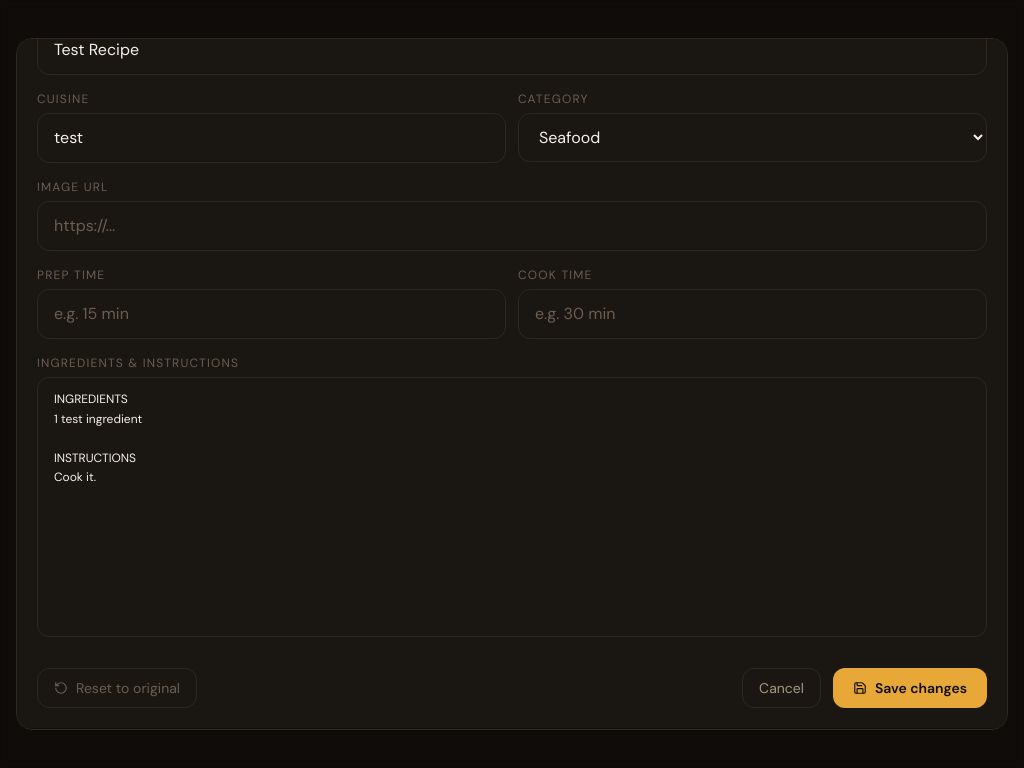
it: RecipeEditModal async completion and retry › reports save readback failure and retries only the read without replaying private data
(page scrolled)
Replace the text in the text box with "Saved personal content" at [512, 507], box [37,377,987,637]
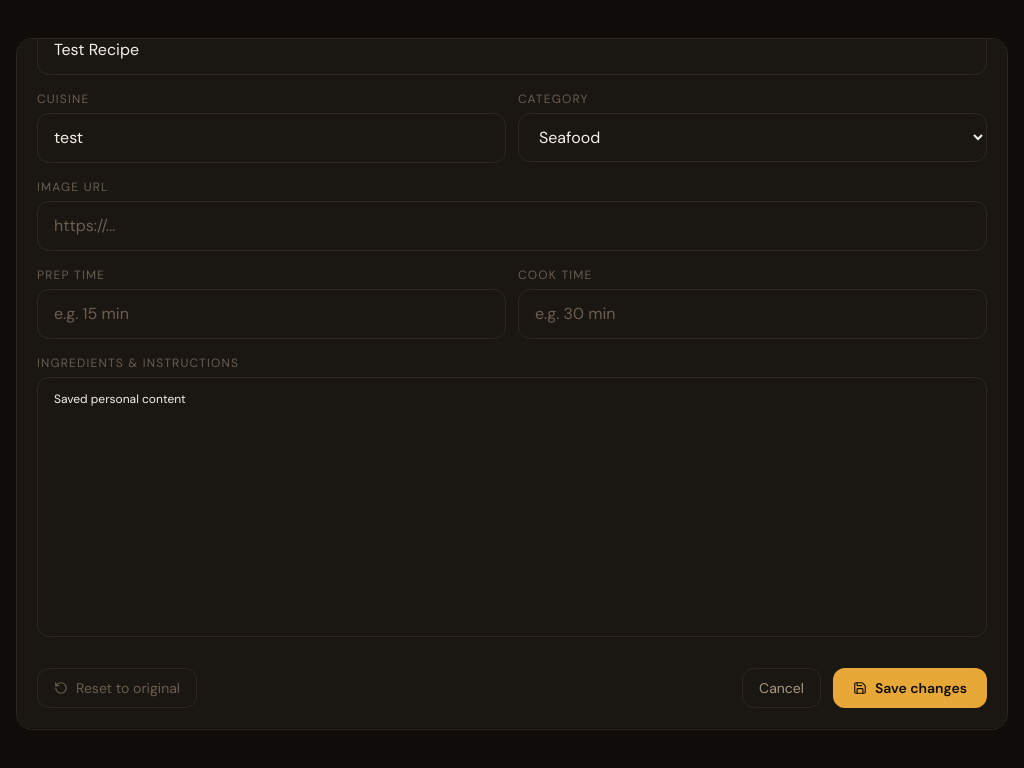
Click the button "Save changes" at [910, 688], box [833,668,987,708]
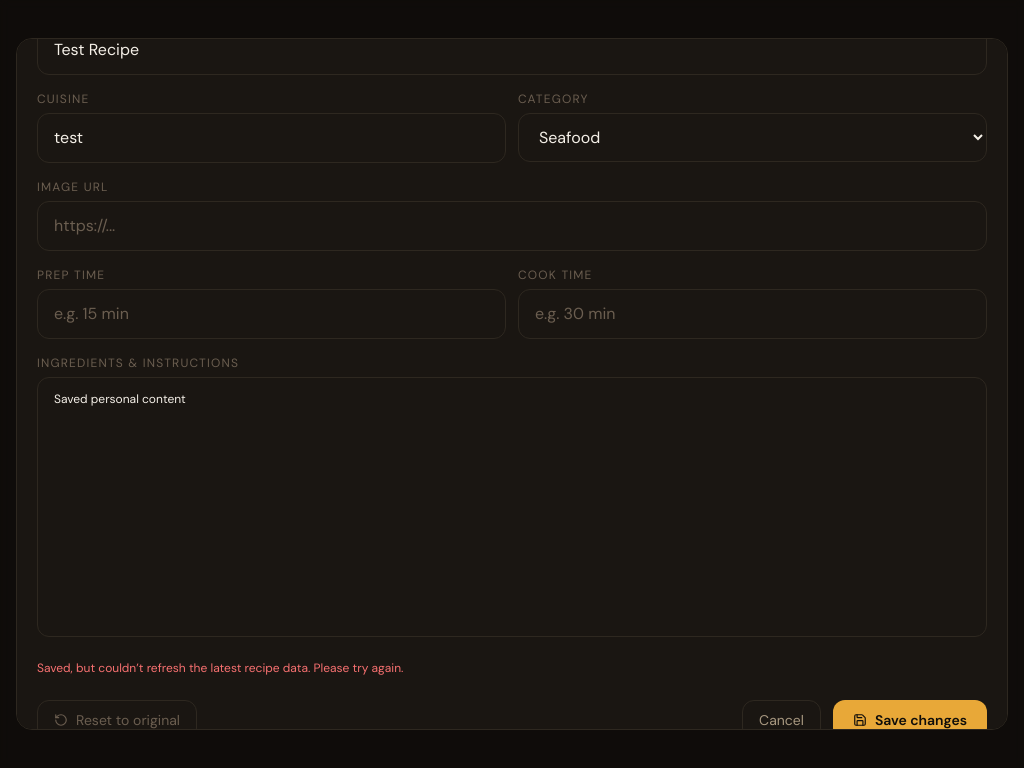
Check: the text "Saved!" is not shown
Check: the message shows "Saved, but couldn’t refresh", box [37,660,404,676]
Click the button "Save changes" at [910, 720], box [833,700,987,740]
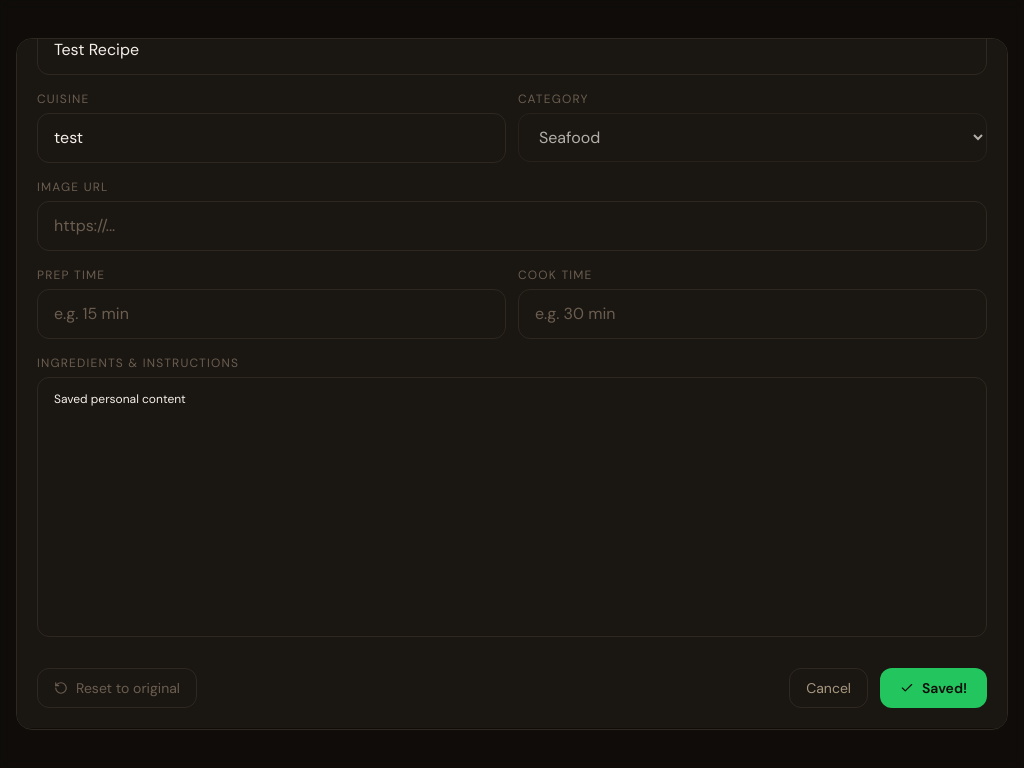
Check: the button "Saved!" is shown, box [880,668,987,708]
